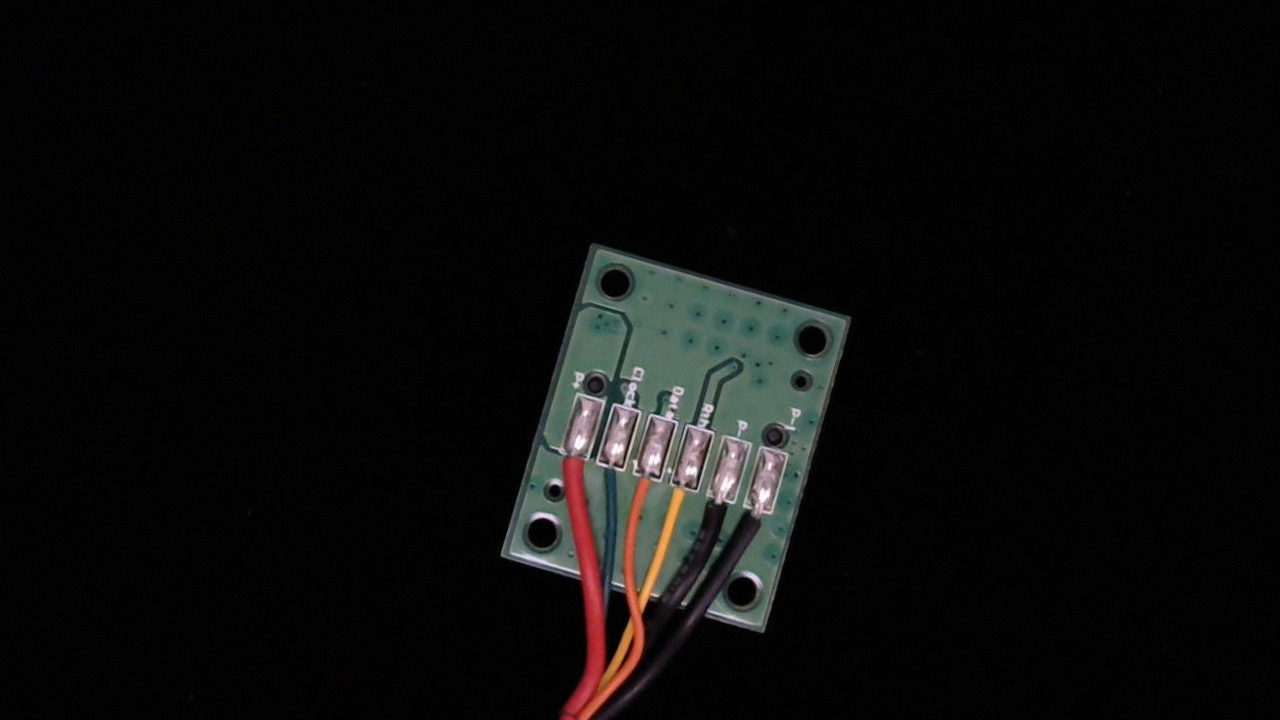Black: (687, 475, 741, 555)
Black1: (730, 488, 782, 562)
Green: (583, 447, 631, 506)
Orange: (613, 456, 665, 534)
Red: (542, 431, 595, 508)
Yellow: (648, 466, 703, 547)
